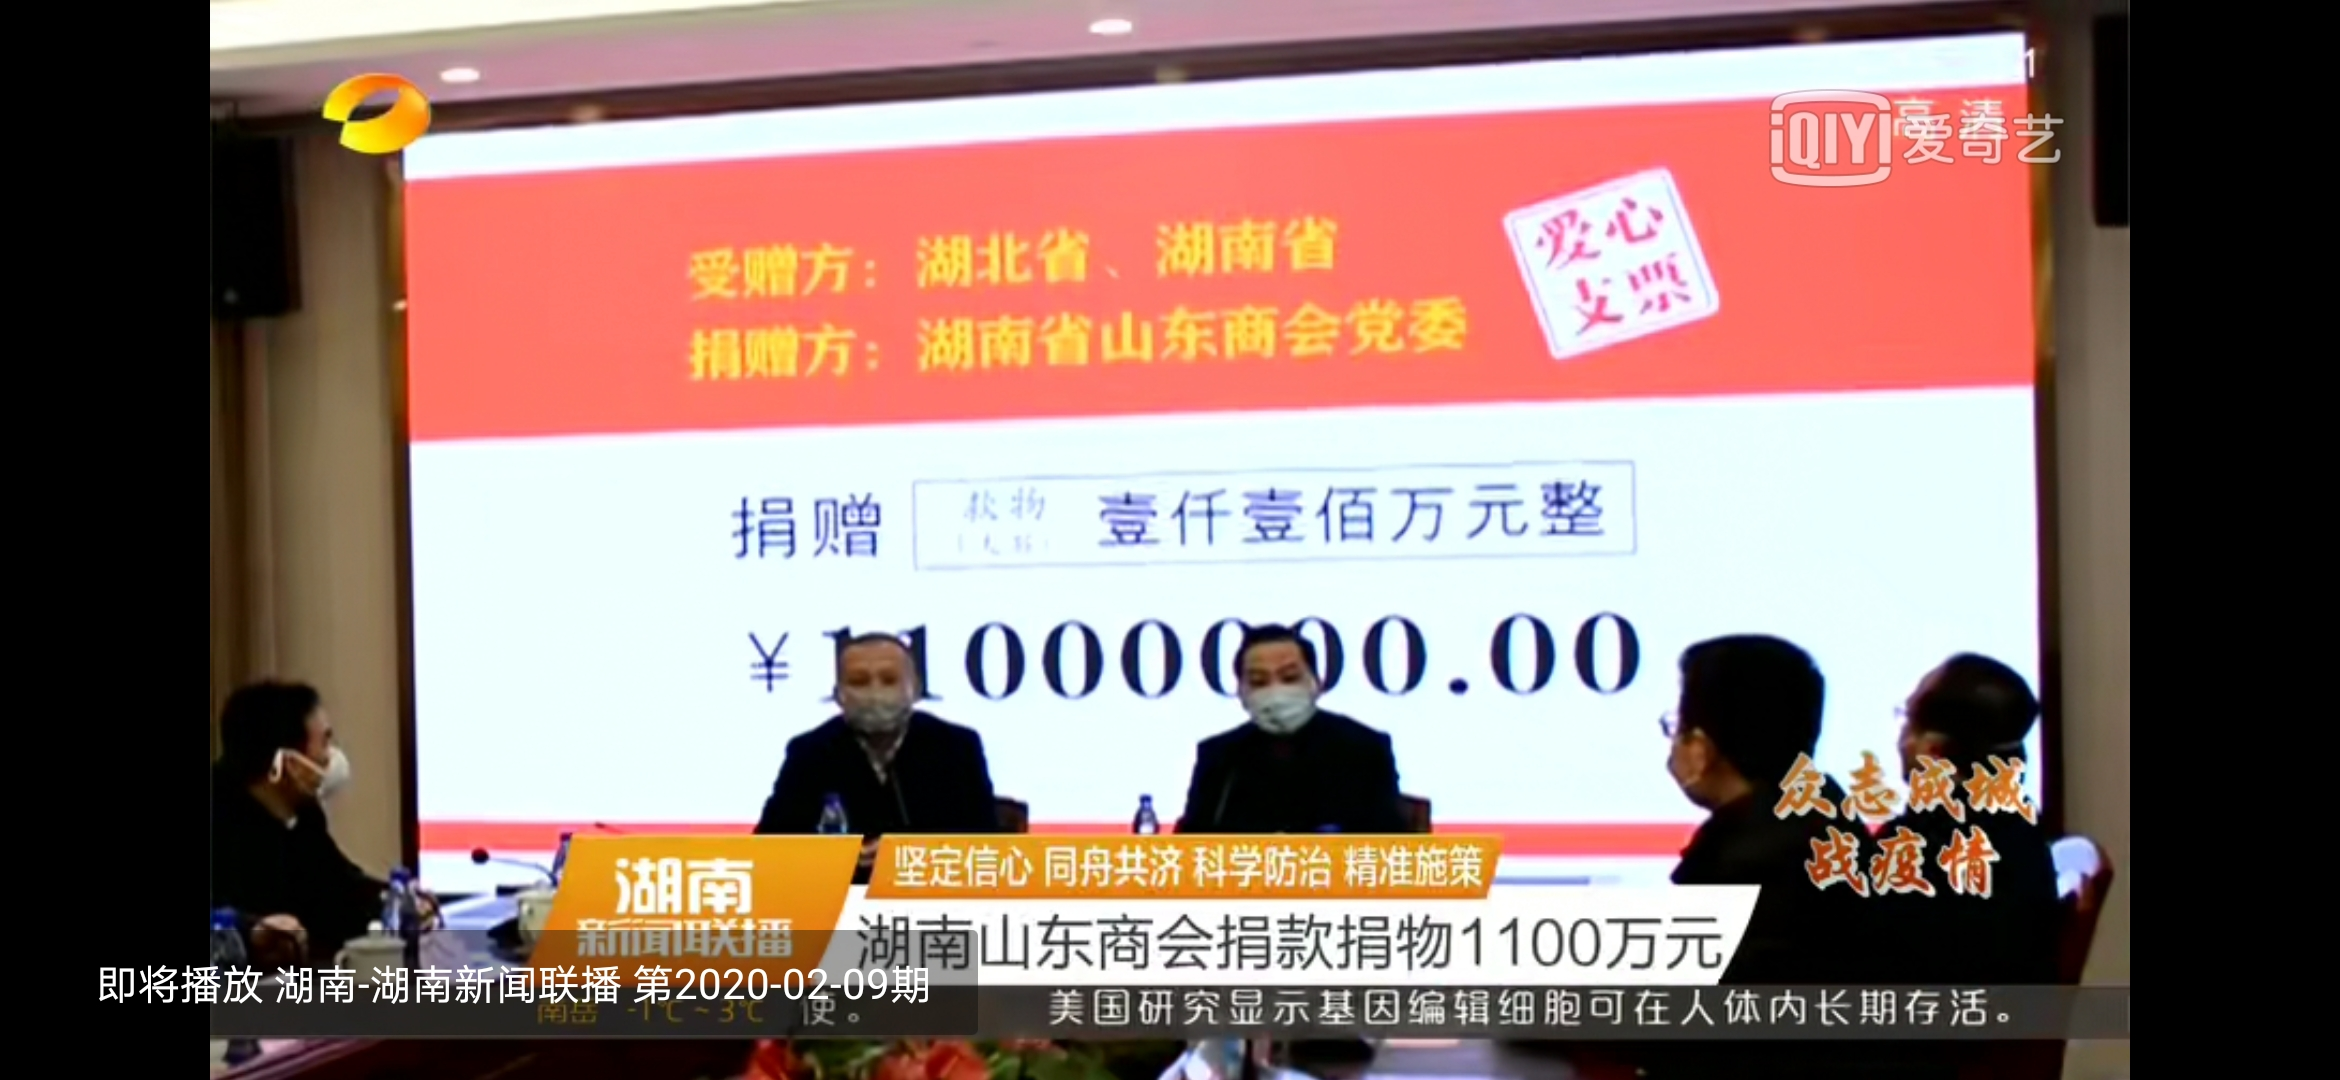correctlyWear: (275, 715, 351, 816), (1659, 701, 1728, 809), (833, 656, 919, 738), (1237, 655, 1318, 738)
